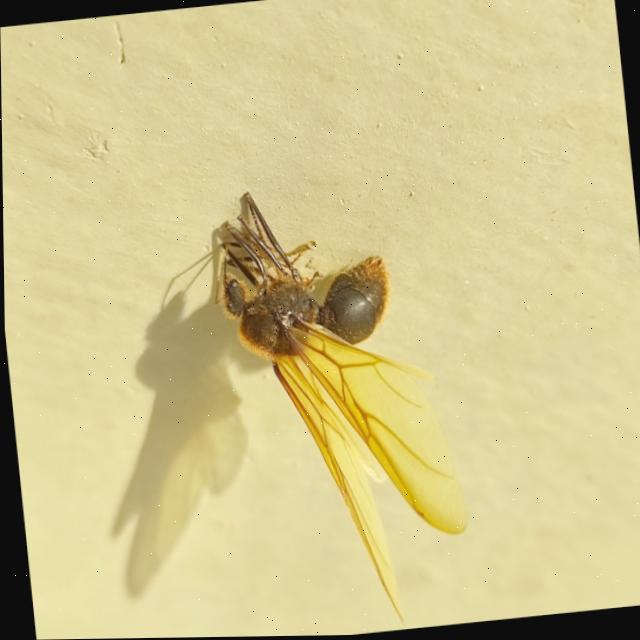Alive-Male-Alate: (203, 172, 480, 638)
